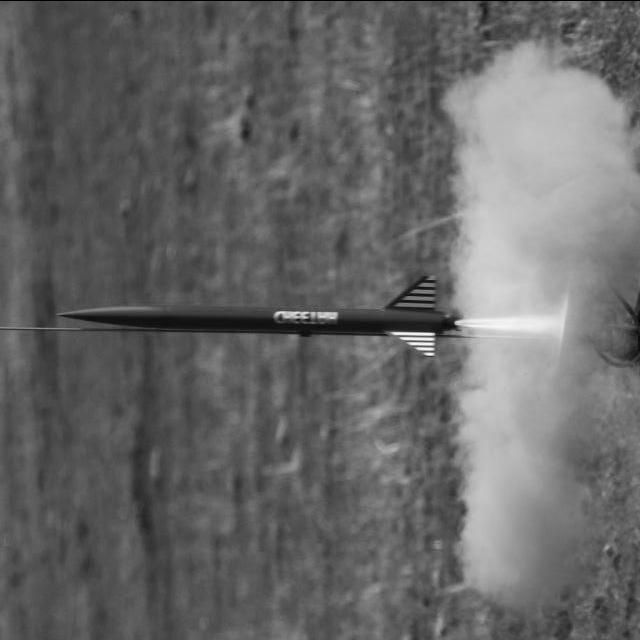missile: (65, 261, 472, 365)
